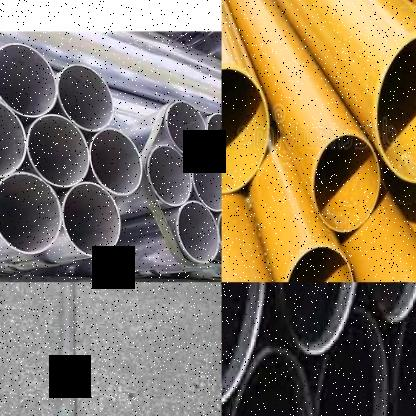pipe: (312, 309, 391, 416), (221, 344, 318, 416), (270, 282, 362, 356), (313, 134, 380, 233), (221, 282, 270, 416), (376, 32, 416, 184), (222, 67, 268, 193), (0, 170, 63, 256), (59, 181, 122, 257), (24, 113, 88, 186), (0, 42, 57, 116), (385, 282, 416, 416), (56, 63, 114, 132), (89, 128, 143, 196), (144, 144, 192, 209), (174, 199, 220, 265), (164, 98, 209, 158), (286, 245, 356, 282), (0, 97, 27, 179), (190, 153, 222, 212), (206, 111, 221, 167)
